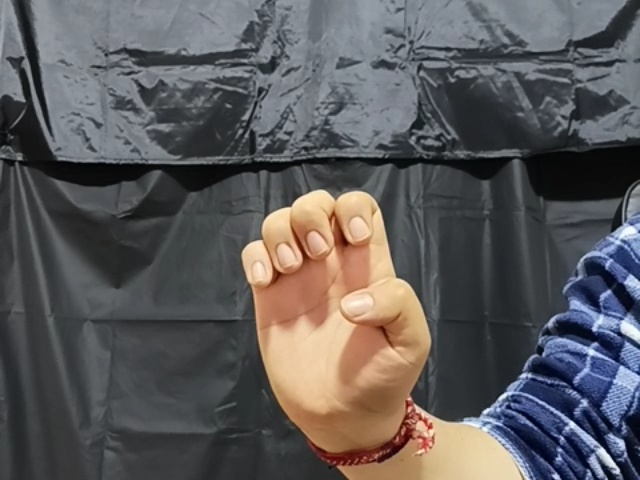E: (238, 187, 432, 425)
